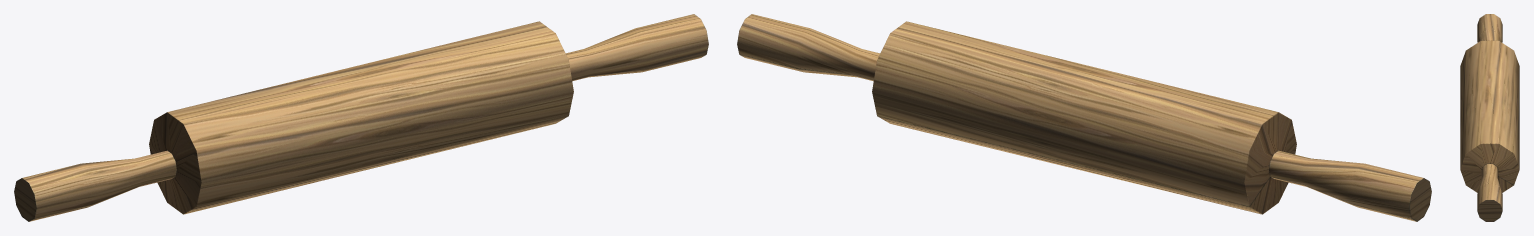
The model's file is Amasador.FBX.
3 renders of one model, left to right at view 1: azimuth 30°, elevation 25°; view 2: azimuth 150°, elevation 25°; view 3: azimuth 270°, elevation 25°, orthographic. The views are drawn at different scales.
Visible parts, largest first — view 1: Amasador; view 2: Amasador; view 3: Amasador.
Part boxes in pixels (bbox=[...]): Amasador: bbox=[14, 14, 708, 221]; Amasador: bbox=[737, 14, 1431, 221]; Amasador: bbox=[1460, 14, 1519, 221].
Bounding box in the file's own units: 9.03 × 1.16 × 1.22.
